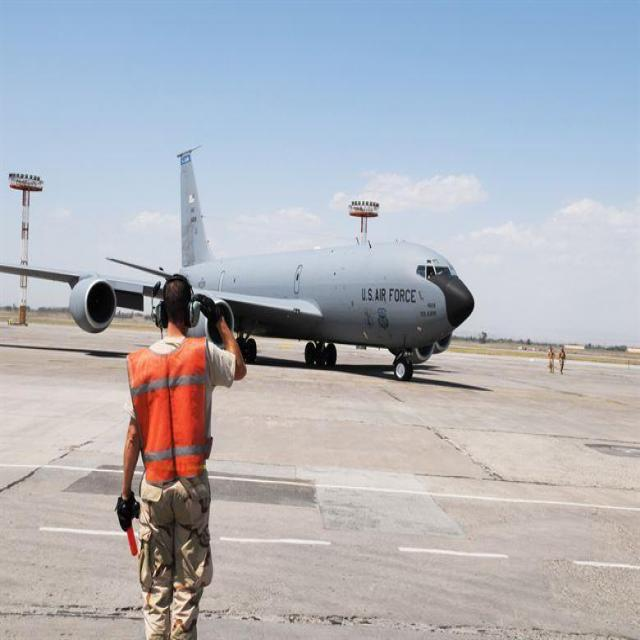Vest: (130, 343, 212, 478)
